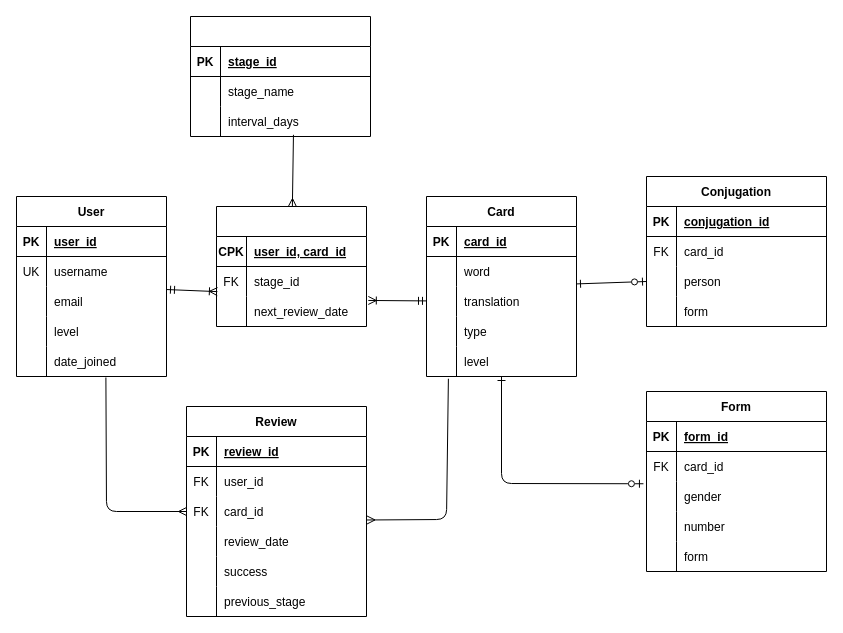
Image size: 843x633. Some labels were removed from this diagram. The box of each missing label's shape, as (x1, y1, x2, y2) in pixels:
SRSStage: (190, 16, 370, 136)
UserCardStatus: (216, 206, 366, 326)
